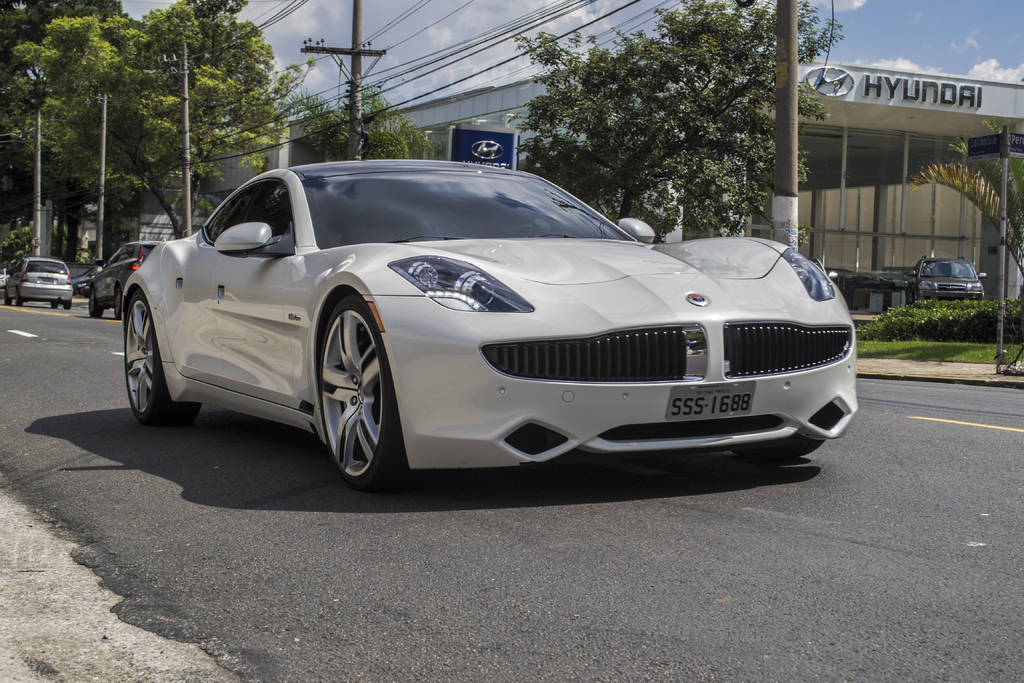Car: (122, 159, 856, 494), (4, 256, 73, 305)
